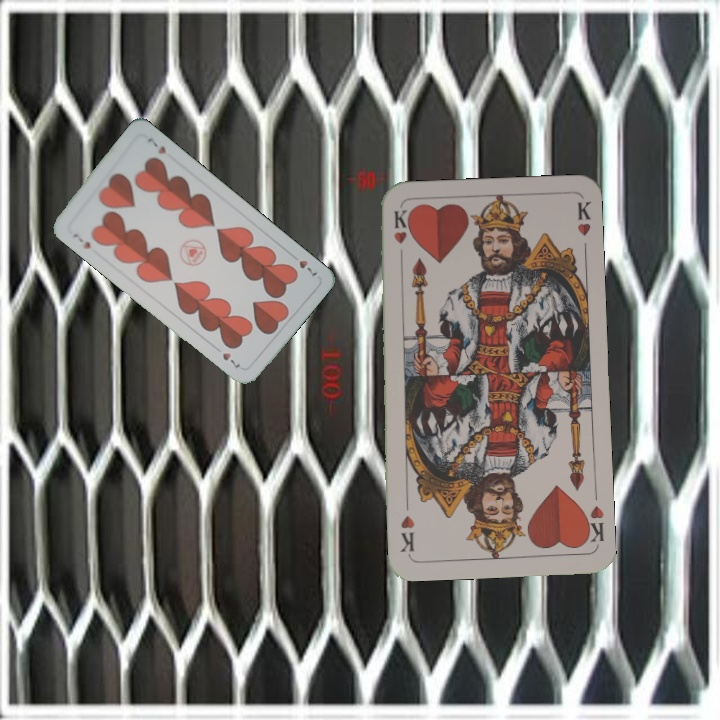H7: (286, 250, 320, 280), (69, 229, 93, 252)
HK: (579, 501, 606, 548), (390, 206, 409, 265)
